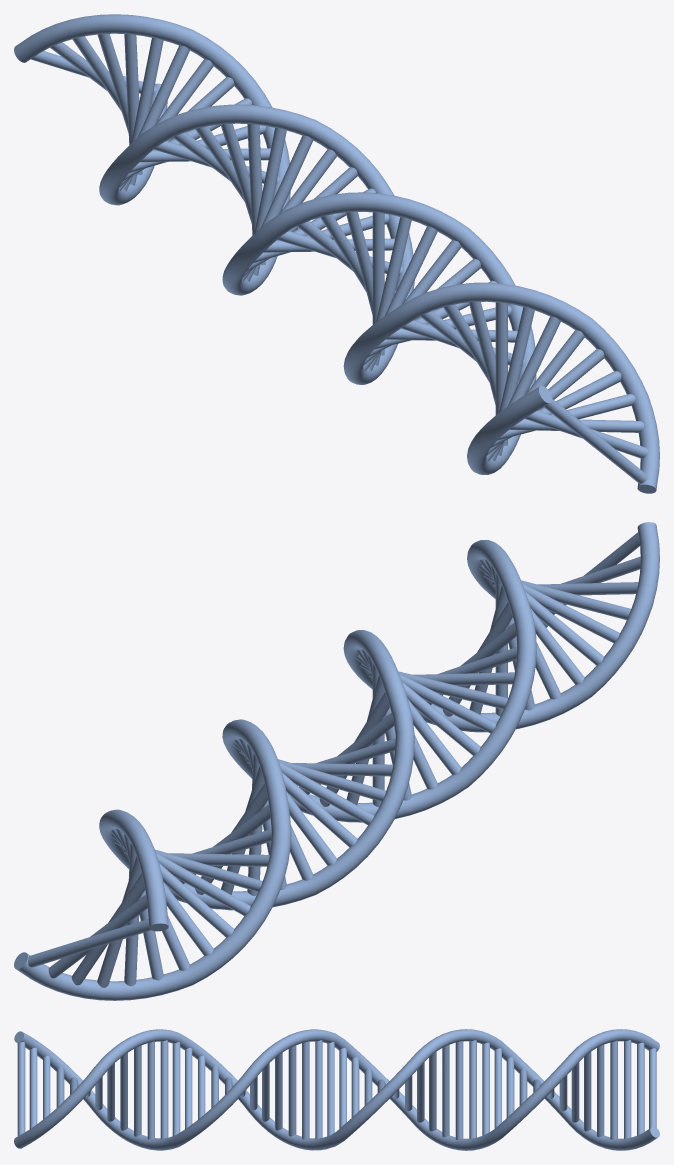
Rendered from DNA.fbx.
The picture shows the model from 3 angles, top to bottom: view 1: azimuth 30°, elevation 25°; view 2: azimuth 150°, elevation 25°; view 3: azimuth 270°, elevation 25°; orthographic projection. The views are drawn at different scales.
Visible parts, largest first — view 1: face0; view 2: face0; view 3: face0.
Boxes of the visible parts, x1,y1,x2,y2 form: face0: [14, 14, 659, 493]; face0: [14, 522, 659, 1000]; face0: [14, 1029, 659, 1150].
Bounding box in the file's own units: 194 × 193 × 1025.
